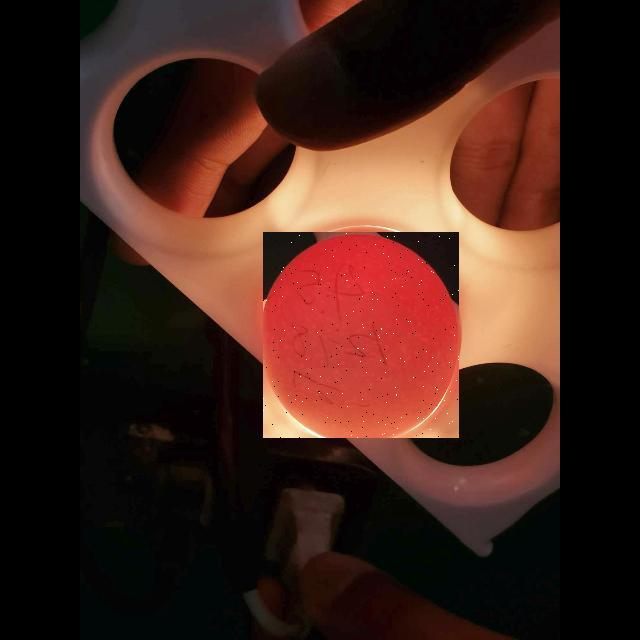Infertile: (263, 232, 459, 438)
